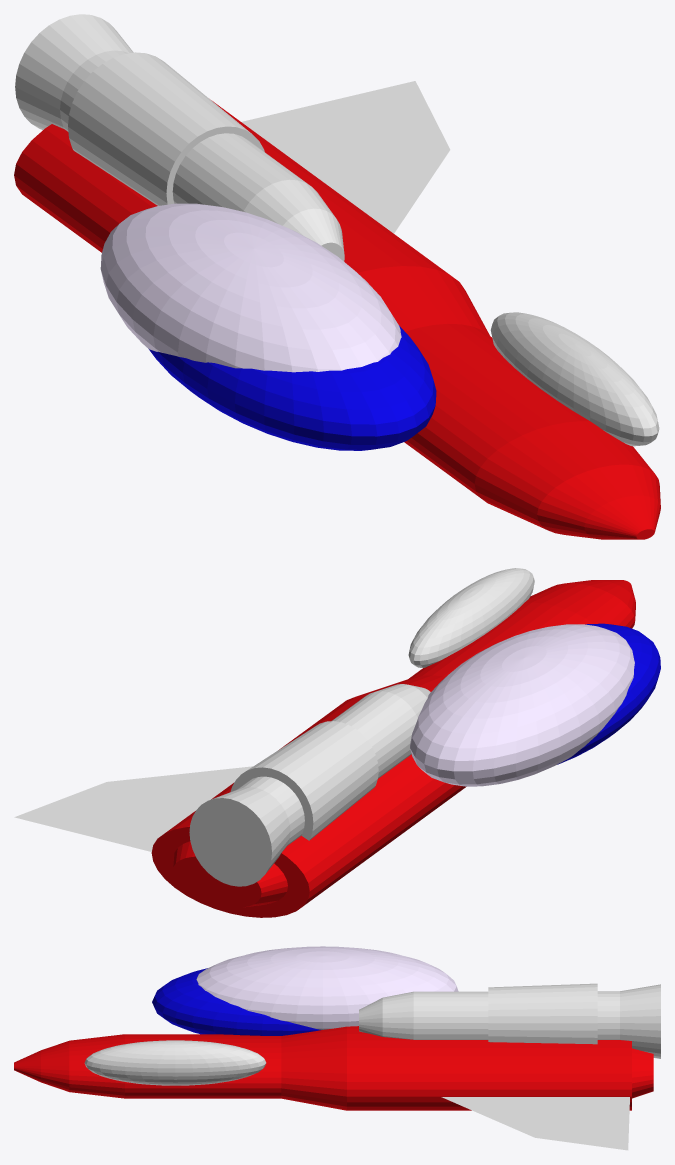
File: redsideattack.glb
The picture shows the model from 3 angles, top to bottom: view 1: azimuth 30°, elevation 25°; view 2: azimuth 150°, elevation 25°; view 3: azimuth 270°, elevation 25°; orthographic projection. The views are drawn at different scales.
Visible parts, largest first — view 1: Body先頭, コックピットカバー, 円柱, コックピット, 平面, 球; view 2: コックピットカバー, Body先頭, 円柱, 平面, 球, コックピット; view 3: Body先頭, 円柱, コックピットカバー, 球, 平面, コックピット.
Part boxes in pixels (x1,y1,x2,y2): Body先頭: [14, 100, 660, 539]; コックピットカバー: [100, 203, 401, 372]; 円柱: [15, 14, 344, 261]; コックピット: [148, 325, 436, 450]; 平面: [241, 81, 450, 233]; 球: [490, 312, 659, 446]; コックピットカバー: [410, 624, 634, 786]; Body先頭: [151, 580, 635, 917]; 円柱: [189, 684, 430, 886]; 平面: [14, 766, 252, 851]; 球: [408, 568, 534, 667]; コックピット: [557, 623, 660, 764]; Body先頭: [14, 1026, 653, 1110]; 円柱: [359, 983, 660, 1058]; コックピットカバー: [196, 946, 458, 1029]; 球: [84, 1040, 266, 1085]; 平面: [441, 1097, 629, 1150]; コックピット: [152, 968, 320, 1035].
Size of the model in its own units: 1.56 by 0.513 by 2.84.
